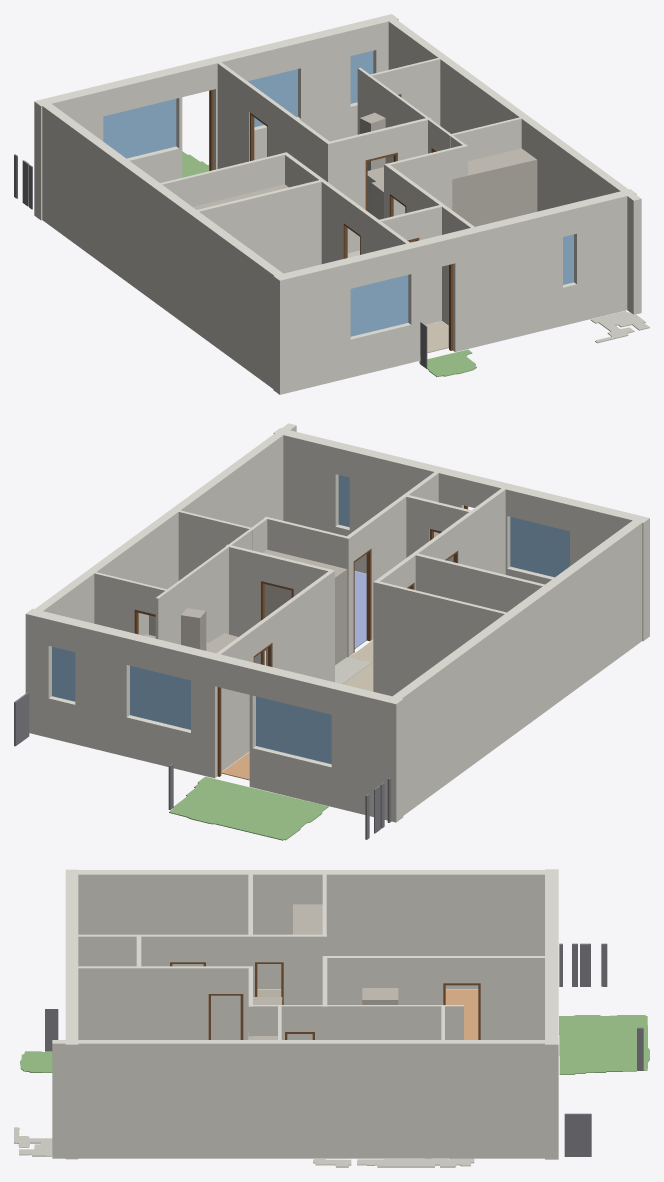
3 views of the same model, one above another, from view 1: azimuth 30°, elevation 25°; view 2: azimuth 150°, elevation 25°; view 3: azimuth 270°, elevation 25° (orthographic). The views are drawn at different scales.
Parts seen in each view (by area): view 1: walls, furniture_3_closet, window_3, window_12, window_0, railings, floor_14_Undefined, floor_11_Outdoor, window_1, floor_9_Entry, furniture_0_closet; view 2: walls, floor_10_Outdoor, window_3, window_0, window_12, furniture_3_closet, railings, window_1, furniture_0_closet, floor_7_Bed_Room, floor_2_Entry, door_8 (+2 smaller); view 3: walls, floor_10_Outdoor, railings, floor_0_Living_Room, floor_12_Undefined, furniture_2_closet, floor_14_Undefined, floor_11_Outdoor, furniture_1_closet.
Boxes of the visible parts, x1,y1,x2,y2 form: walls: (34,14,641,394); furniture_3_closet: (371,148,537,226); window_3: (103,99,176,158); window_12: (350,275,408,336); window_0: (248,69,297,127); railings: (14,154,427,368); floor_14_Undefined: (590,311,649,343); floor_11_Outdoor: (419,349,476,376); window_1: (350,51,373,103); floor_9_Entry: (420,321,448,354); furniture_0_closet: (360,112,385,170); walls: (25,423,649,822); floor_10_Outdoor: (169,776,328,840); window_3: (256,696,331,764); window_0: (130,665,190,729); window_12: (510,517,569,577); furniture_3_closet: (263,549,347,664); railings: (14,692,391,839); window_1: (52,646,75,701); furniture_0_closet: (181,608,206,650); floor_7_Bed_Room: (354,571,366,648); floor_2_Entry: (343,640,373,691); door_8: (353,549,371,652); walls: (52,869,558,1159); floor_10_Outdoor: (559,1015,649,1074); railings: (45,943,643,1156); floor_0_Living_Room: (445,989,478,1039); floor_12_Undefined: (357,1158,474,1167); furniture_2_closet: (293,904,322,934); floor_14_Undefined: (14,1127,52,1156); floor_11_Outdoor: (20,1051,52,1072); furniture_1_closet: (362,988,398,1004).
Bounding box in the file's own units: 9.21 × 2.72 × 13.56.
